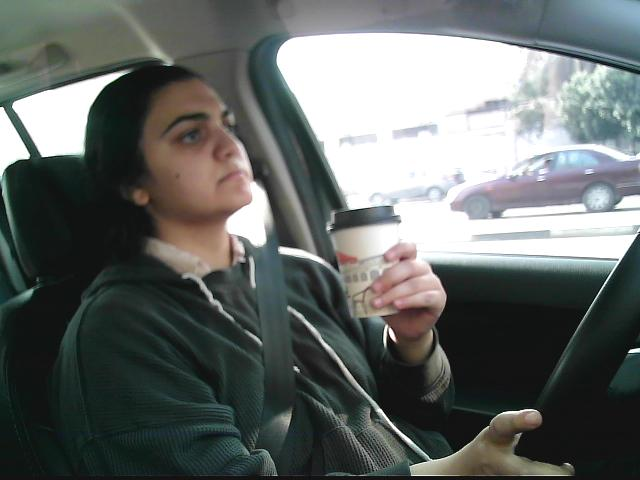Drinking: (323, 202, 410, 321)
